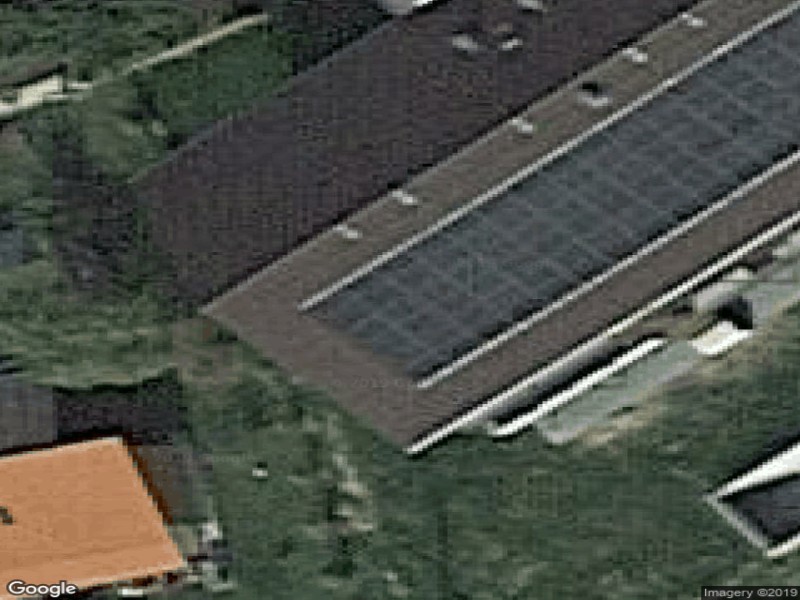pv: (301, 1, 800, 390)
